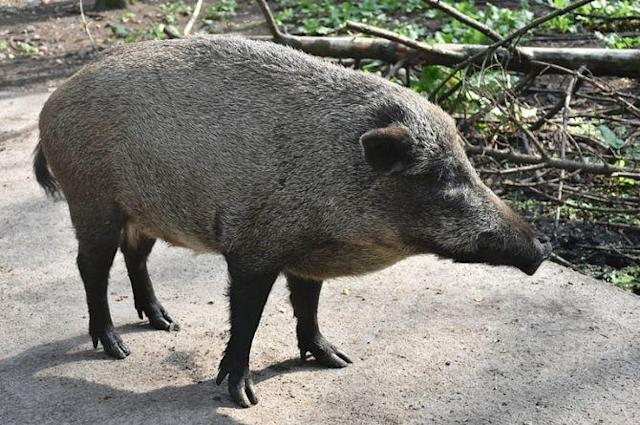boar: (31, 30, 553, 412)
